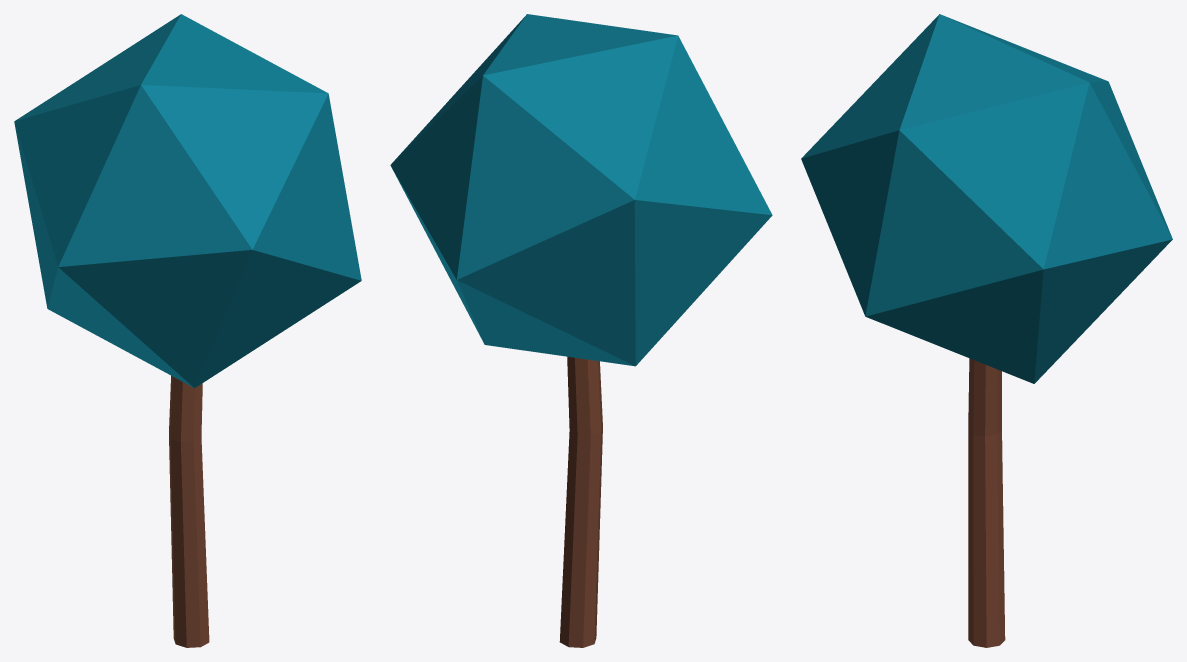
Rendered from Tree_40_summer_blue_vc.fbx.
The picture shows the model from 3 angles, left to right: view 1: azimuth 30°, elevation 25°; view 2: azimuth 150°, elevation 25°; view 3: azimuth 270°, elevation 25°; orthographic projection. The views are drawn at different scales.
Parts seen in each view (by area): view 1: Tree_40_summer_blue_vc; view 2: Tree_40_summer_blue_vc; view 3: Tree_40_summer_blue_vc.
Boxes of the visible parts, <box> form: Tree_40_summer_blue_vc: <box>14,14,361,647</box>; Tree_40_summer_blue_vc: <box>390,14,772,647</box>; Tree_40_summer_blue_vc: <box>801,14,1172,647</box>.
Size of the model in its own units: 110 by 196 by 112.
